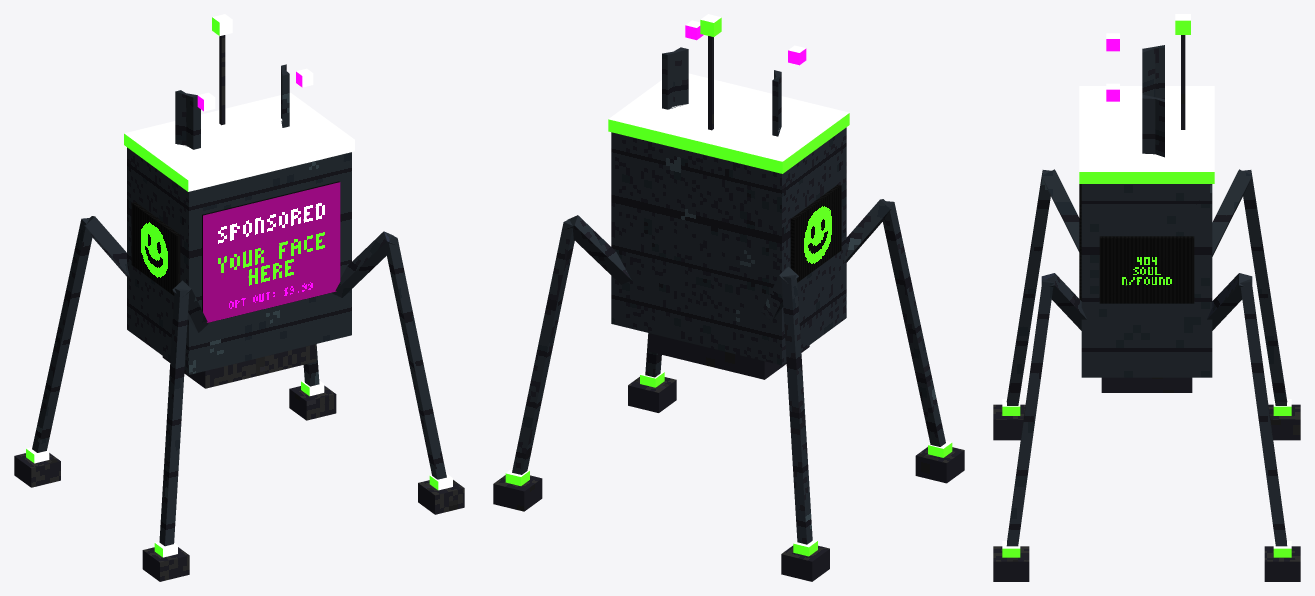
Rendered from bots_sentinel.glb.
The picture shows the model from 3 angles, left to right: view 1: azimuth 30°, elevation 25°; view 2: azimuth 150°, elevation 25°; view 3: azimuth 270°, elevation 25°; orthographic projection. The views are drawn at different scales.
Parts seen in each view (by area): view 1: prop, leg_0, leg_3, leg_2, leg_1; view 2: prop, leg_1, leg_3, leg_2, leg_0; view 3: prop, leg_0, leg_1, leg_2, leg_3.
Boxes of the visible parts, bbox=[...] form: prop: bbox=[124, 14, 354, 388]; leg_0: bbox=[332, 231, 464, 514]; leg_3: bbox=[142, 280, 208, 581]; leg_2: bbox=[14, 216, 129, 487]; leg_1: bbox=[289, 344, 336, 420]; prop: bbox=[608, 14, 849, 379]; leg_1: bbox=[493, 215, 631, 511]; leg_3: bbox=[844, 199, 964, 483]; leg_2: bbox=[761, 266, 829, 581]; leg_0: bbox=[628, 334, 676, 412]; prop: bbox=[1079, 14, 1214, 392]; leg_0: bbox=[993, 273, 1086, 581]; leg_1: bbox=[1207, 273, 1300, 581]; leg_2: bbox=[1212, 169, 1300, 440]; leg_3: bbox=[993, 169, 1079, 440].
Size of the model in its own units: 1.64 by 2.37 by 1.36.
1 material, 1 textured.
